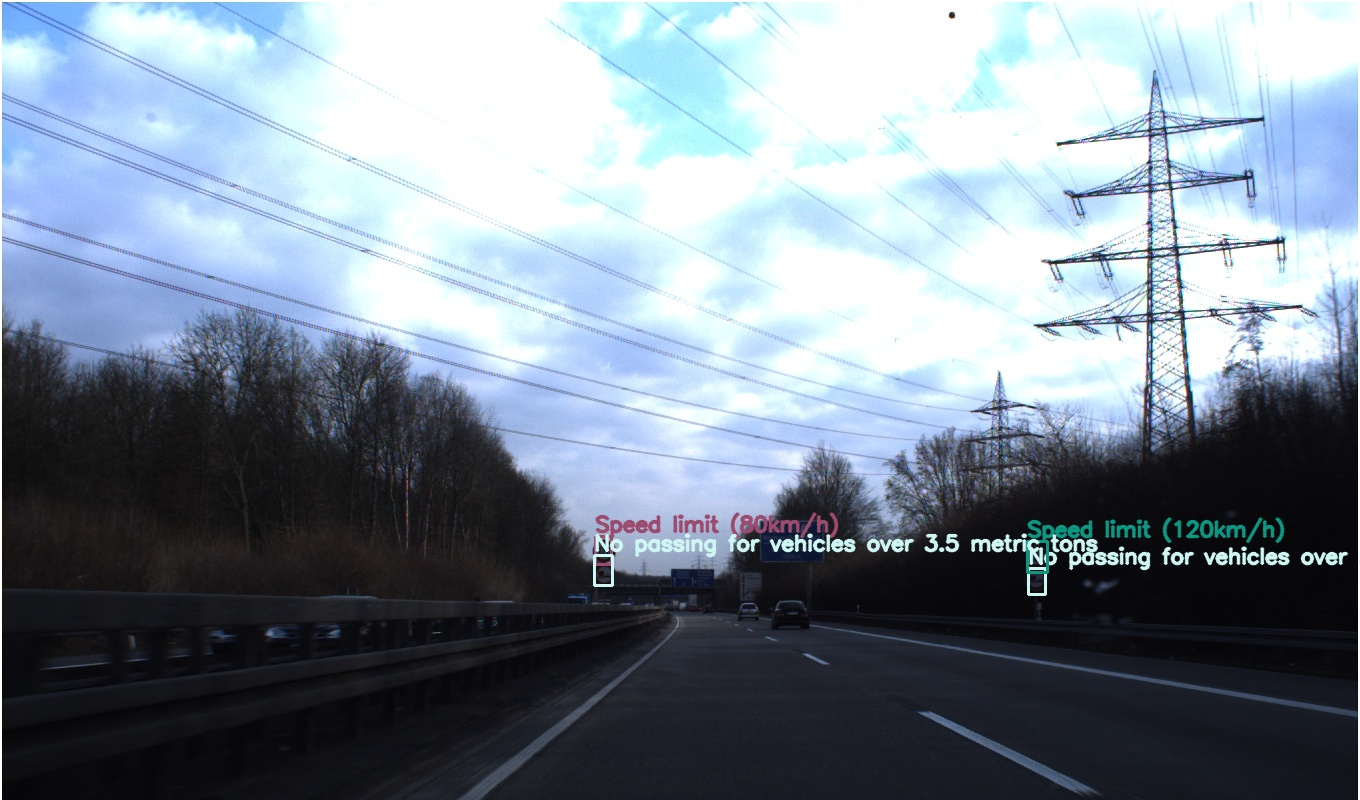Road work: (610, 388, 653, 428)
